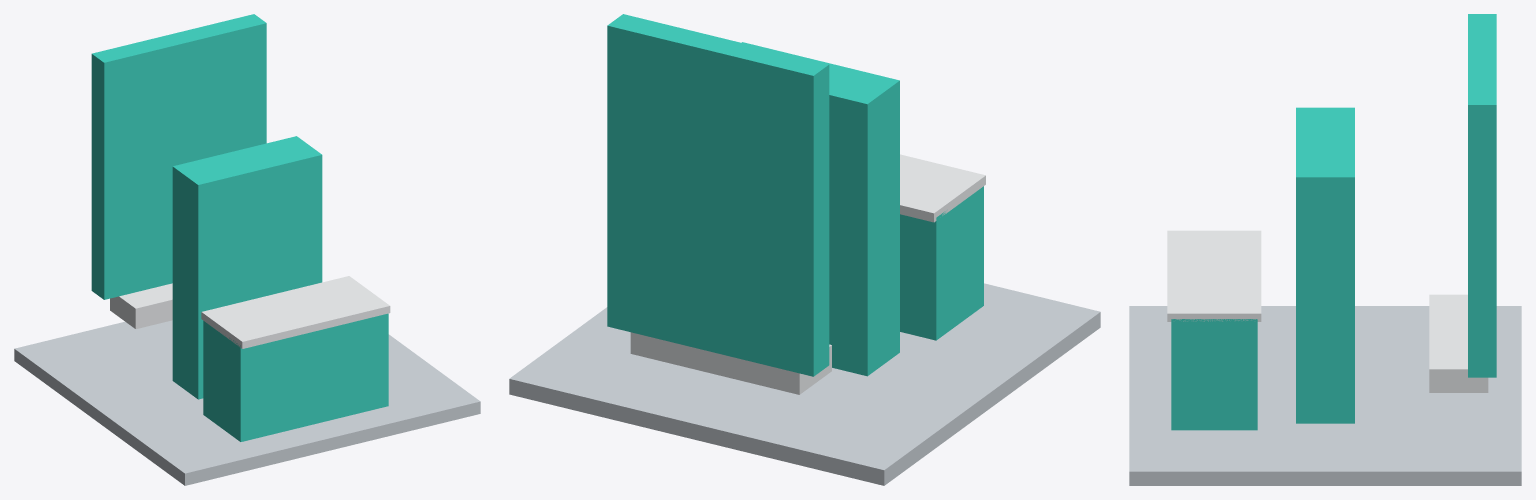
3 renders of one model, left to right at view 1: azimuth 30°, elevation 25°; view 2: azimuth 150°, elevation 25°; view 3: azimuth 270°, elevation 25°, orthographic. The views are drawn at different scales.
Visible parts, largest first — view 1: Exhibition Booth Concept; view 2: Exhibition Booth Concept; view 3: Exhibition Booth Concept.
Part boxes in pixels (bbox=[...]): Exhibition Booth Concept: bbox=[14, 14, 480, 485]; Exhibition Booth Concept: bbox=[509, 14, 1100, 485]; Exhibition Booth Concept: bbox=[1129, 14, 1521, 485].
Size of the model in its own units: 3 by 2.9 by 3.
